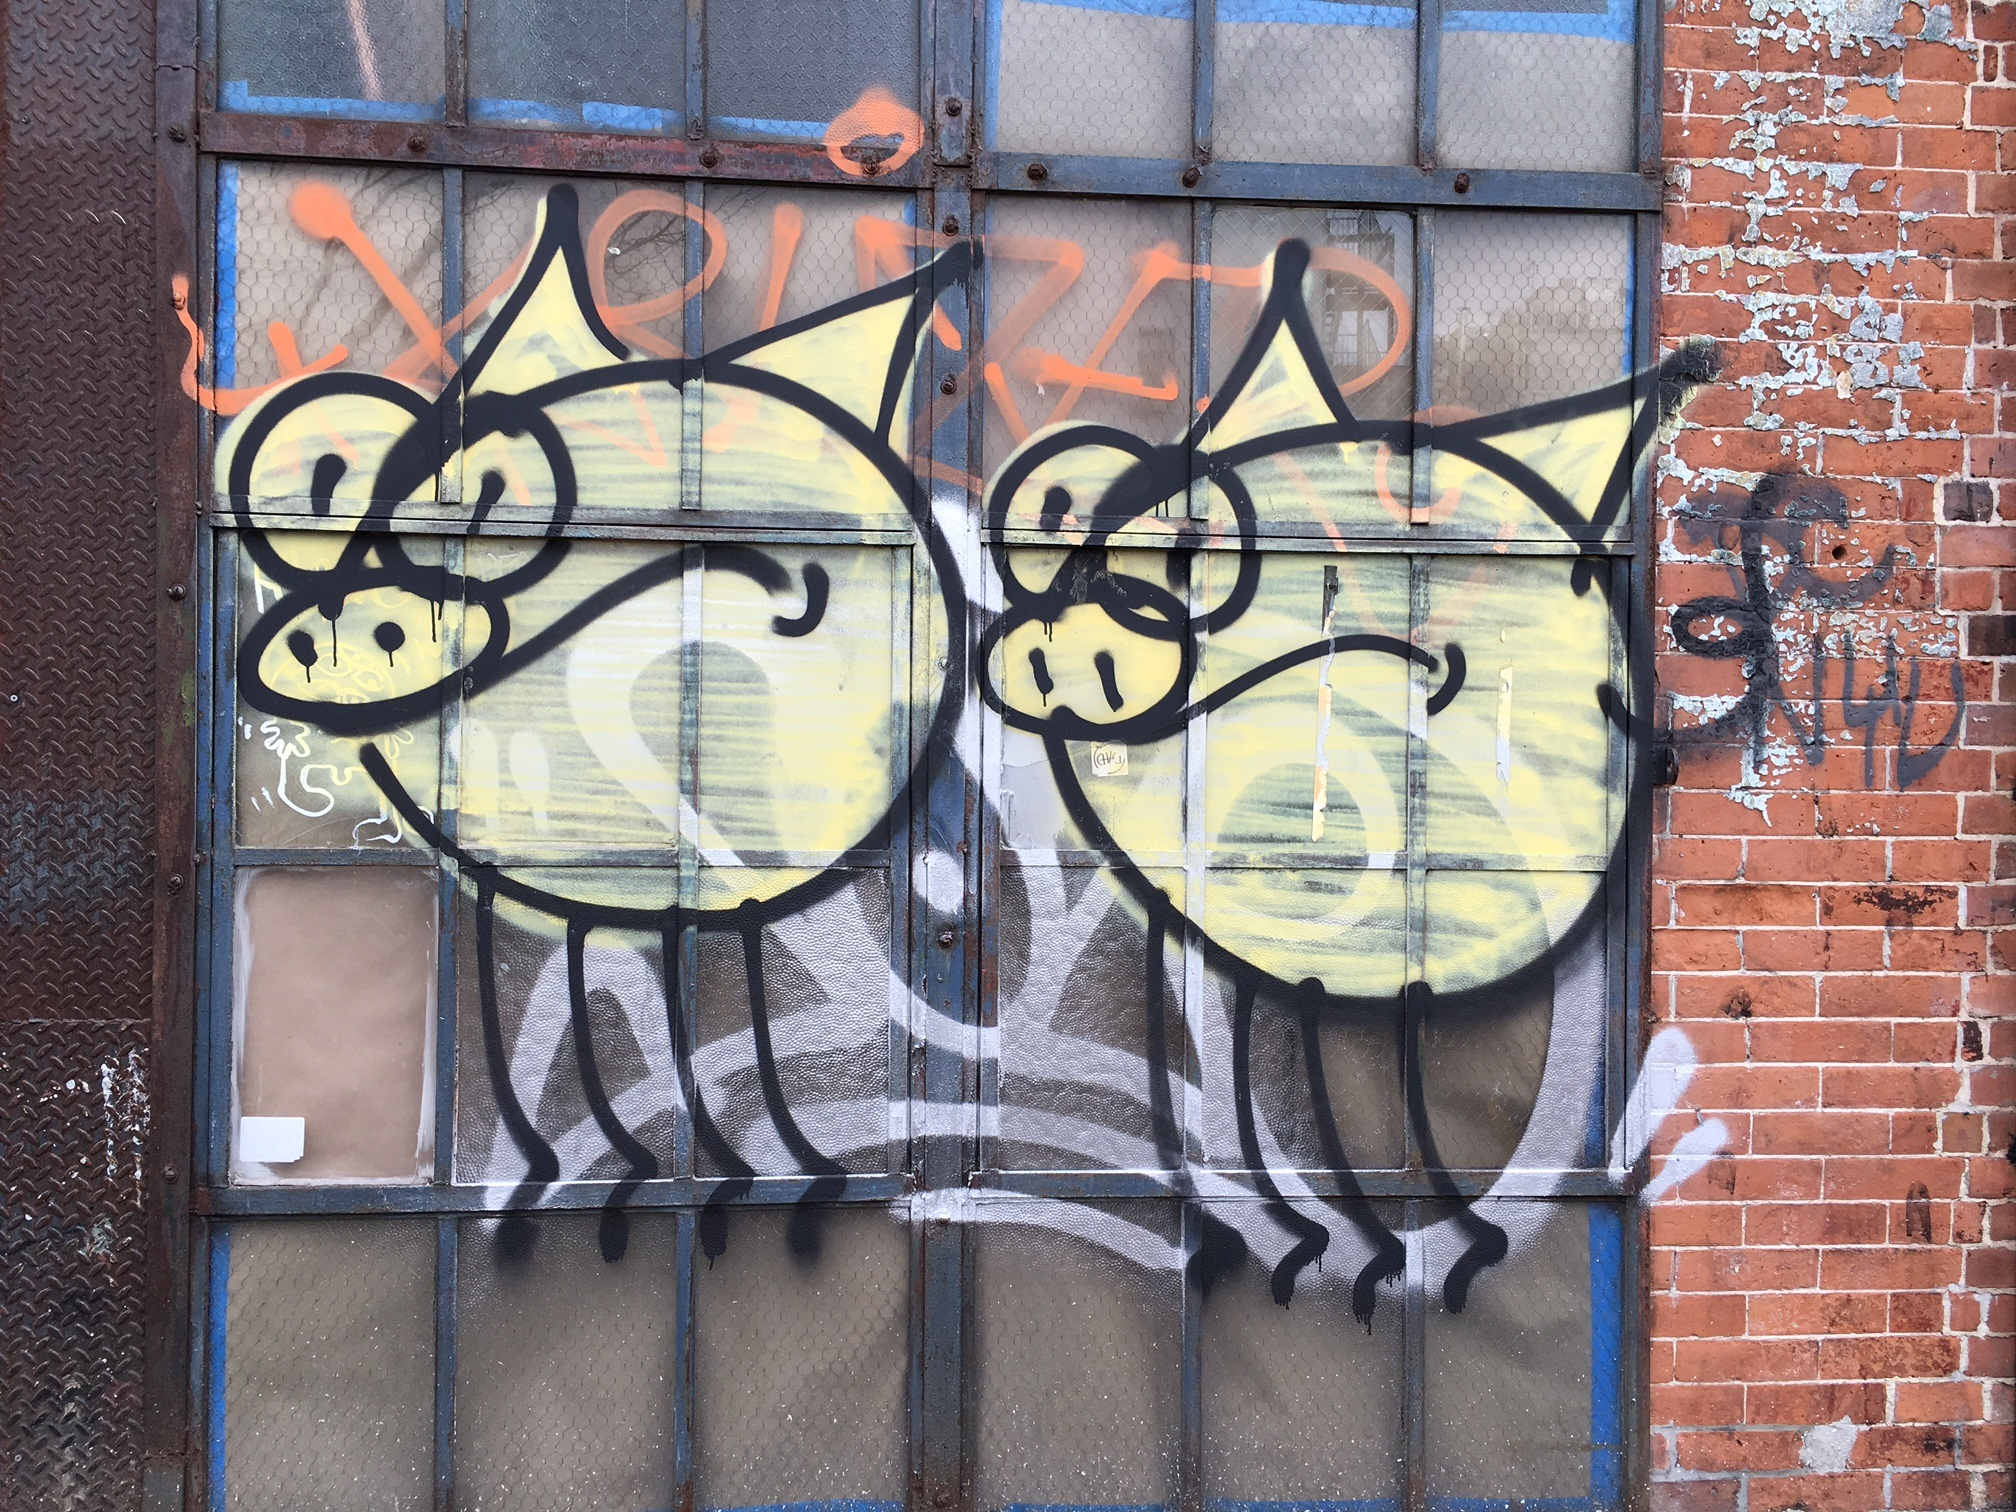graphite: (222, 175, 1695, 1301), (1625, 491, 1975, 805)
